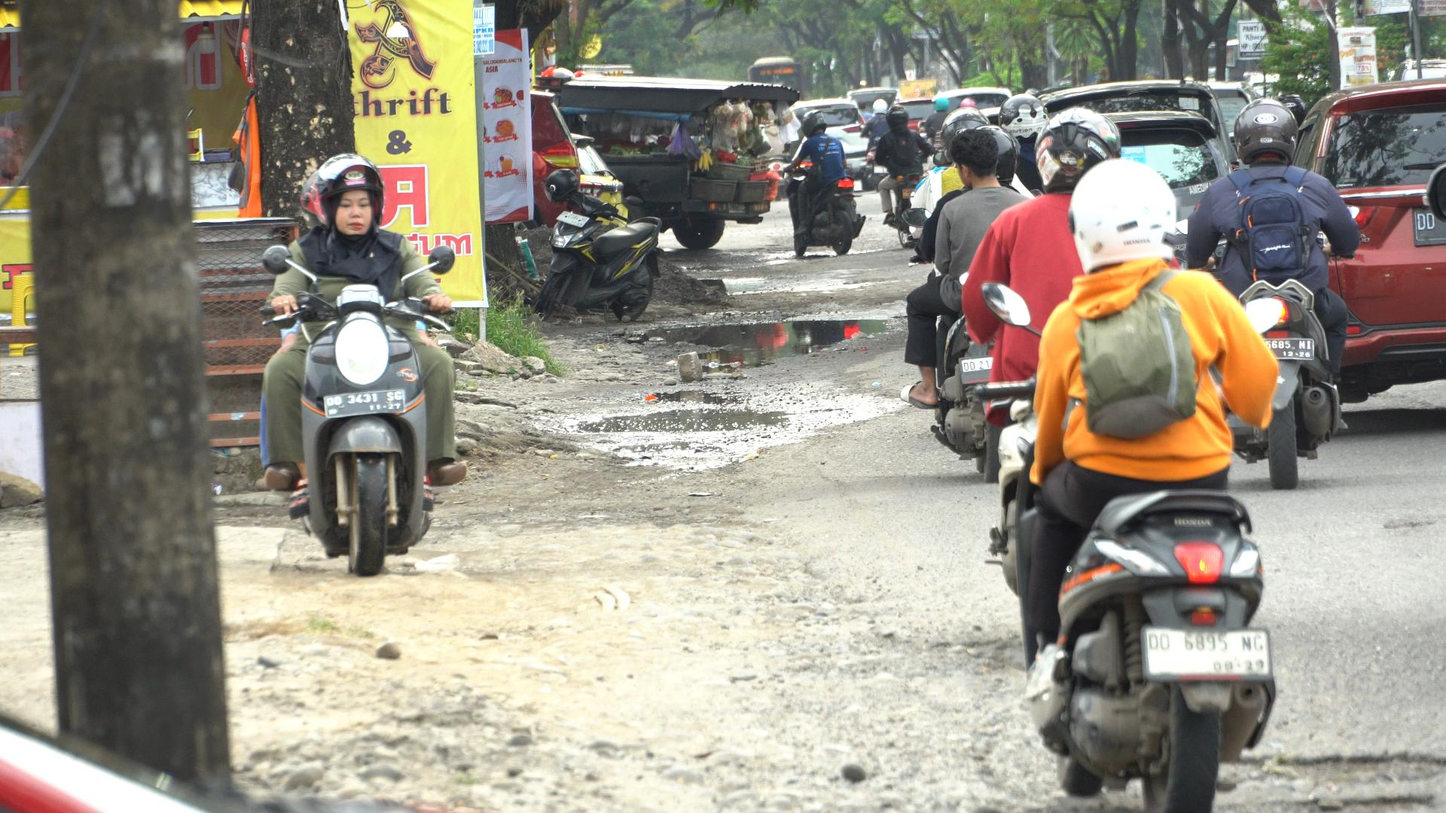number-plate: (321, 389, 406, 418)
